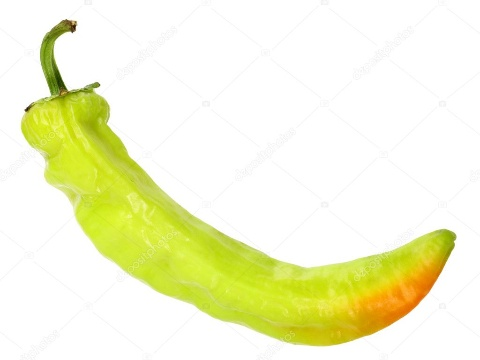Chilli: (14, 11, 462, 343)
